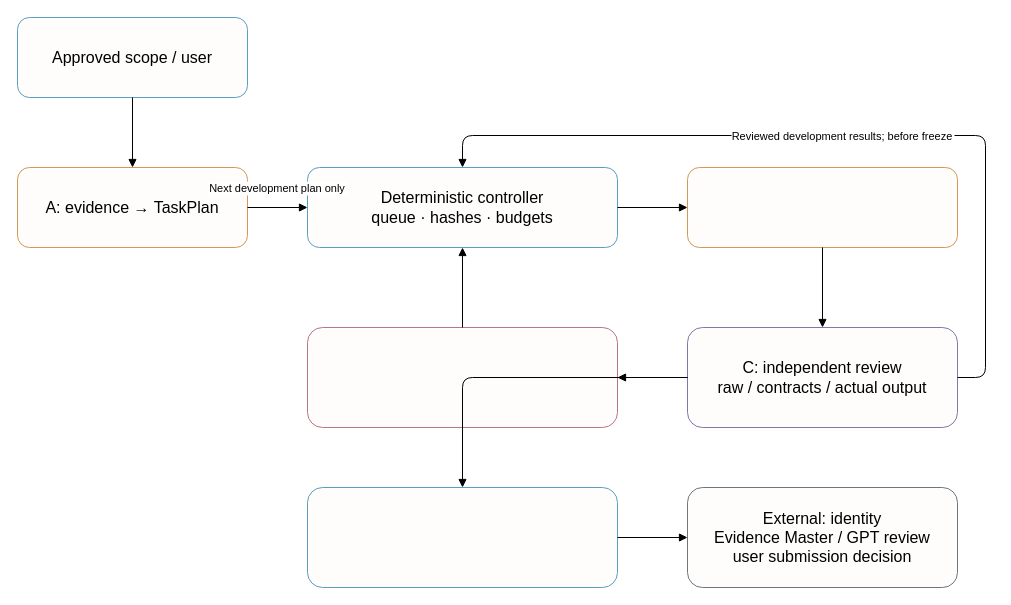
Some shapes in this 1011 by 605 pixel diagram are drawn without their labels. The shapes that lost their labels are listed below. From the top down, each one's centre as x and y in pixels, then its label:
At point (822, 207): "B-Run frozen numerical tools".
At point (462, 377): "B-Repair patch → tests → new run".
At point (462, 537): "Confirm → full production reports / notebooks / ZIP".
